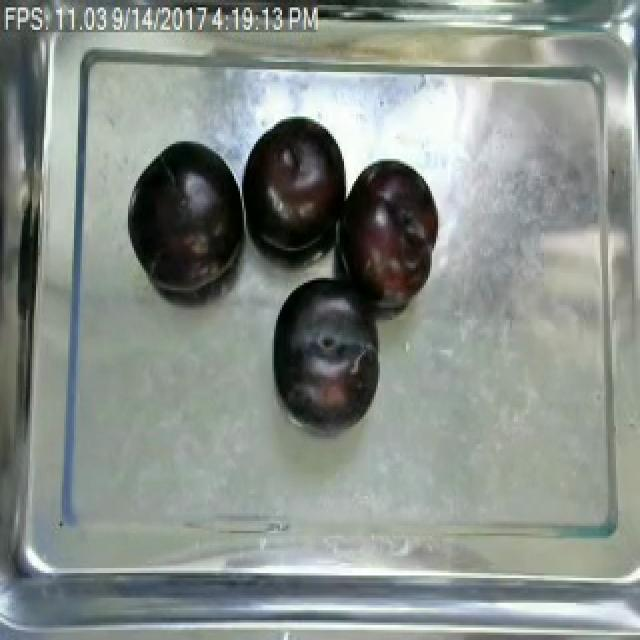Fruit: (124, 134, 246, 298), (262, 275, 384, 429), (338, 156, 442, 315), (240, 112, 350, 256)
